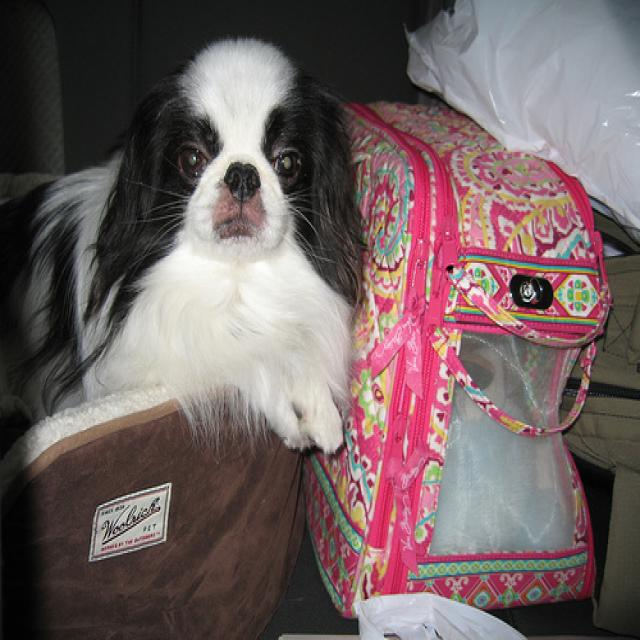dog-japanese_chin: (1, 31, 372, 463)
